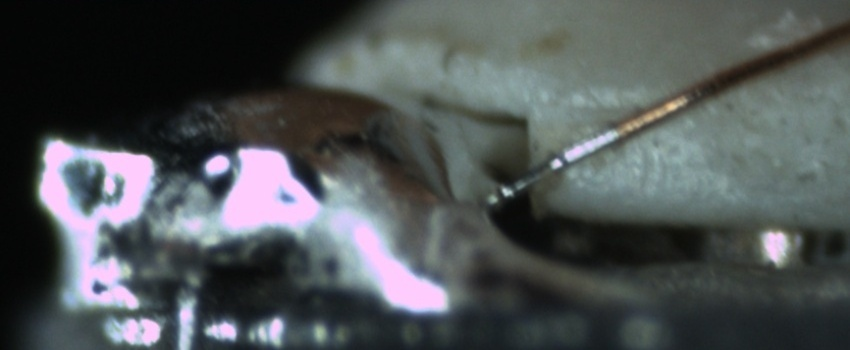DL: (547, 83, 679, 138)
TS: (488, 128, 618, 199)
TTCW: (496, 112, 636, 200)
